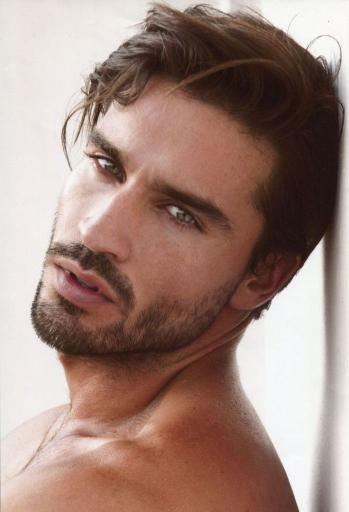left_eye: (156, 201, 204, 230)
left_lip_corner: (104, 291, 119, 309)
right_eye: (90, 151, 129, 187)
right_lip_corner: (50, 258, 66, 274)
